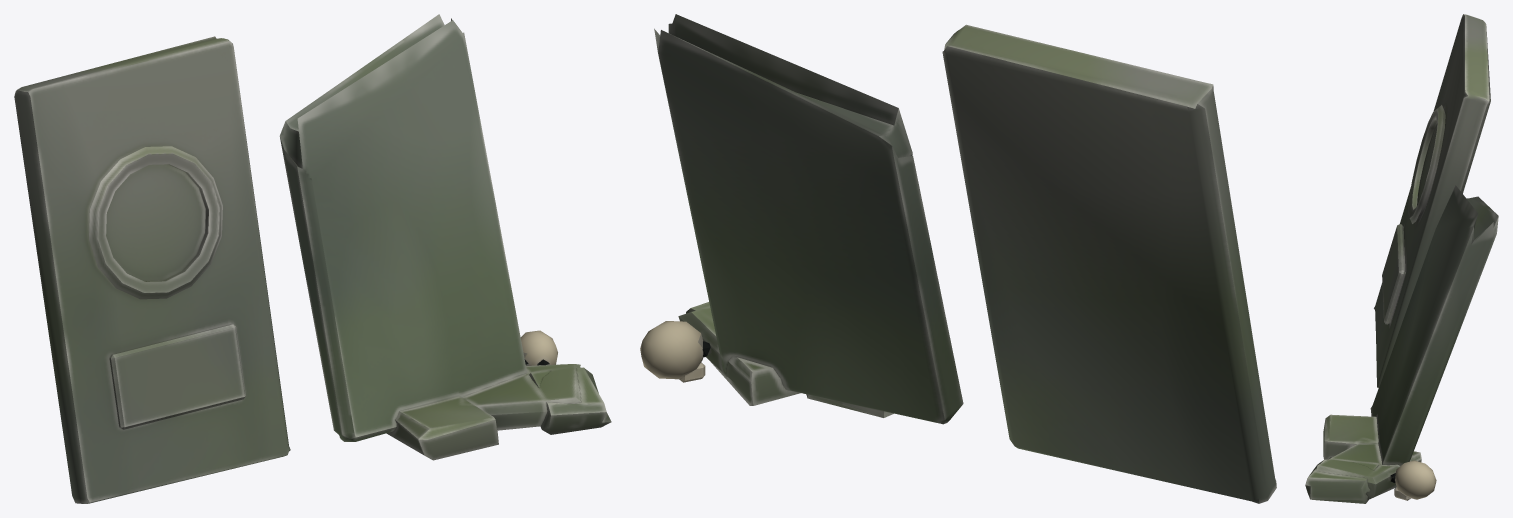
File: crypt_grave_slabs.glb
3 renders of one model, left to right at view 1: azimuth 30°, elevation 25°; view 2: azimuth 150°, elevation 25°; view 3: azimuth 270°, elevation 25°, orthographic. The views are drawn at different scales.
Parts seen in each view (by area): view 1: crypt_grave_slabs; view 2: crypt_grave_slabs; view 3: crypt_grave_slabs.
Part boxes in pixels (x1,y1,x2,y2): crypt_grave_slabs: [14, 14, 611, 503]; crypt_grave_slabs: [640, 14, 1276, 503]; crypt_grave_slabs: [1305, 14, 1498, 503].
Size of the model in its own units: 2.03 by 1.5 by 0.8562.
Materials: 1 (1 with a texture image).
